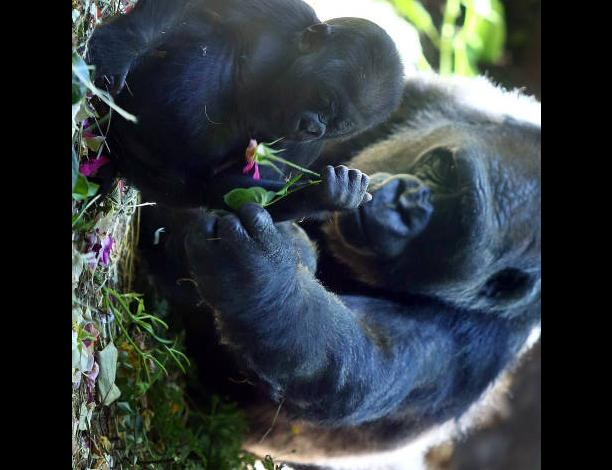gorille_Autres: (88, 56, 539, 470), (71, 0, 416, 165)
